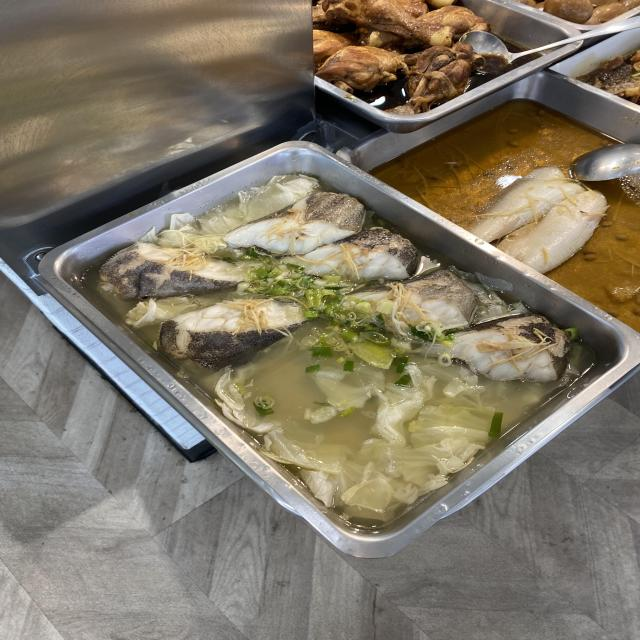Steamed fish: (165, 223, 413, 355)
